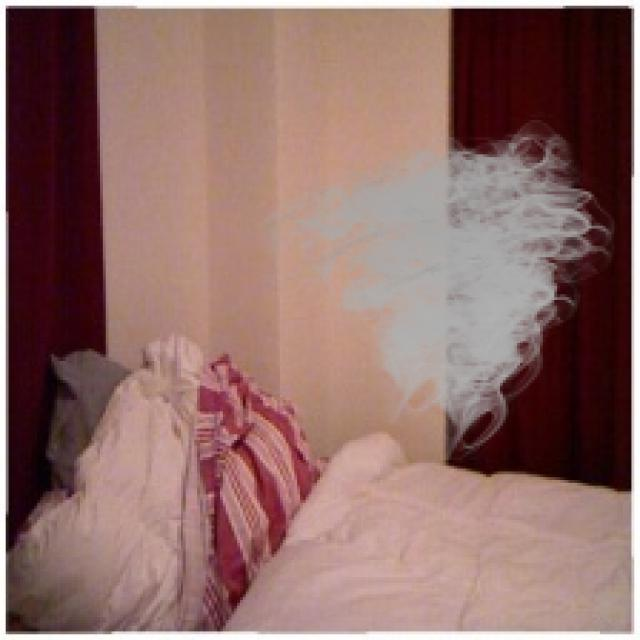smoke: (257, 111, 626, 460)
